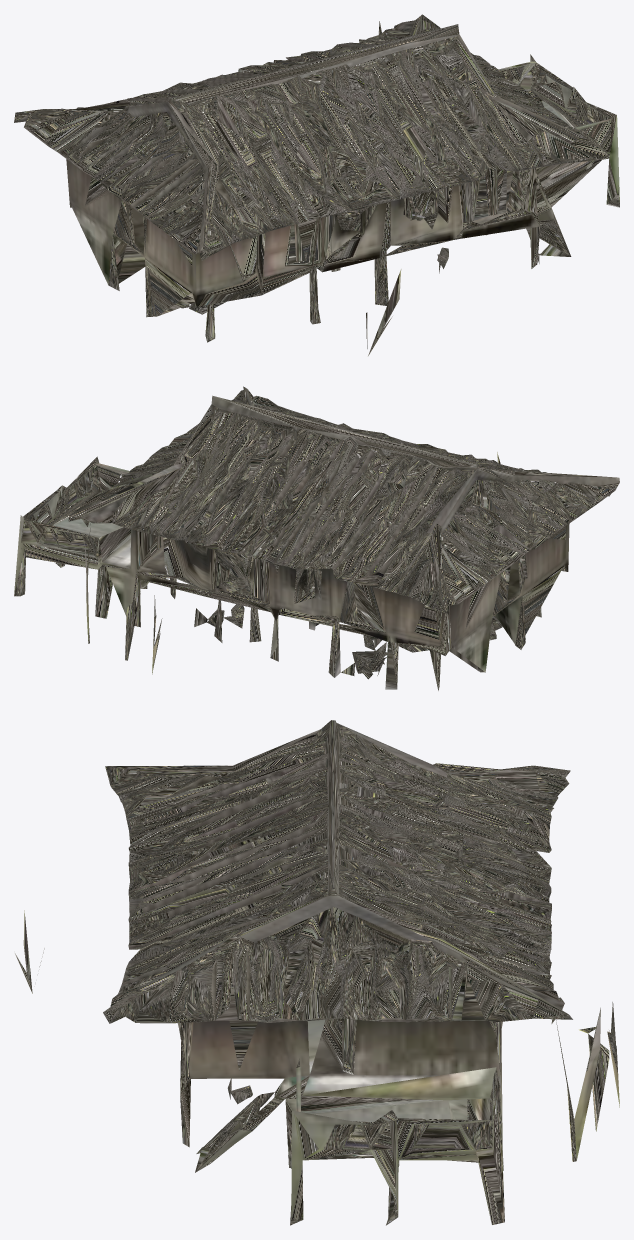
File: bq_stilt.far.glb
The picture shows the model from 3 angles, top to bottom: view 1: azimuth 30°, elevation 25°; view 2: azimuth 150°, elevation 25°; view 3: azimuth 270°, elevation 25°; orthographic projection. The views are drawn at different scales.
Parts seen in each view (by area): view 1: mesh_node; view 2: mesh_node; view 3: mesh_node.
Part boxes in pixels (x1,y1,x2,y2): mesh_node: [14, 14, 619, 355]; mesh_node: [14, 386, 619, 690]; mesh_node: [15, 720, 619, 1225].
Size of the model in its own units: 1.89 by 0.7484 by 1.62.
1 material, 1 textured.
